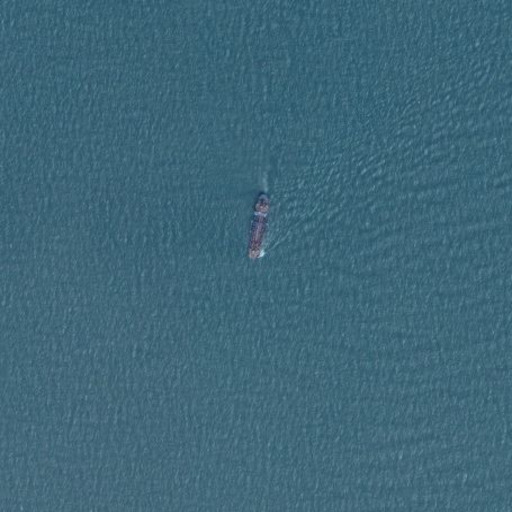ship: (245, 190, 273, 263)
